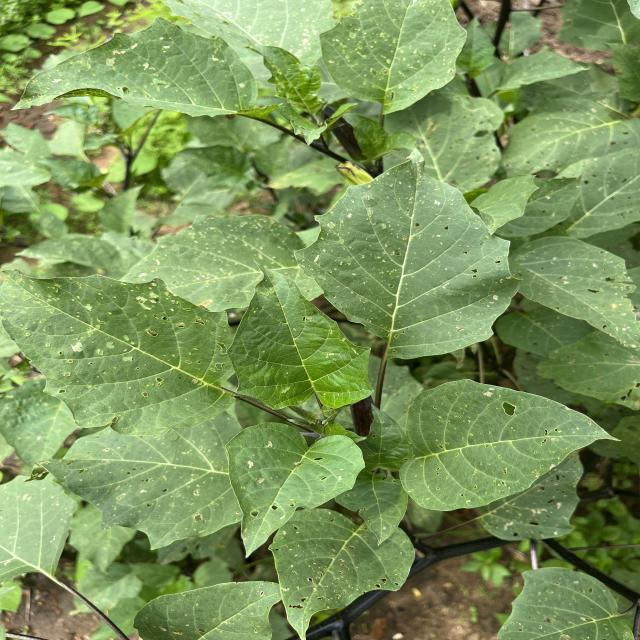Datura metal linn: (289, 142, 529, 364), (396, 375, 626, 514), (6, 11, 286, 121), (224, 257, 380, 412), (222, 417, 368, 562), (266, 503, 418, 640)
